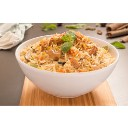briyani: (25, 36, 110, 70)
